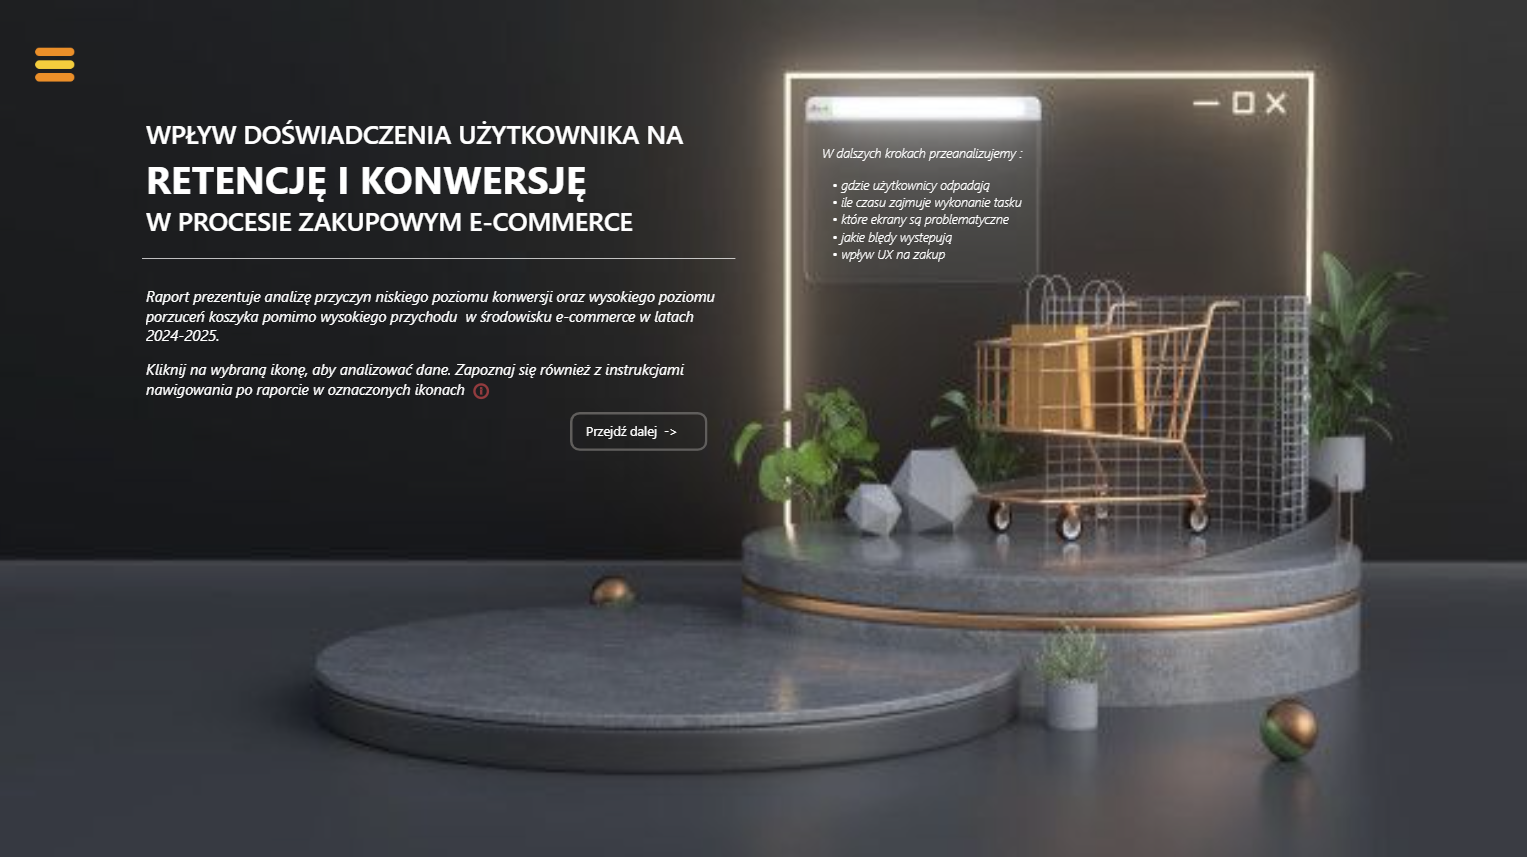

Layout of this report page (visuals, bound fields, positions):
{"tool":"powerbi","page":{"name":"STRONA GŁÓWNA","canvas":[1920,1080],"ordinal":0},"visuals":[{"type":"textbox","box":[1028.1,156.2,287.5,203.1],"z":1000},{"type":"textbox","box":[181.8,352.7,741.8,163.6],"z":3000},{"type":"actionButton","box":[592.1,474,33,27.9],"z":4000},{"type":"textbox","box":[181.6,134.2,742.1,176.3],"z":14000},{"type":"textbox","box":[181.6,318.4,742.1,52.6],"z":15000},{"type":"textbox","box":[733.3,523.1,143.6,35.9],"z":16000},{"type":"actionButton","title":"Przejdź dalej ->","box":[717.9,515.4,171.8,48.7],"z":17000},{"type":"image","box":[35.9,51.3,76.9,56.4],"z":18000}]}

Visuals, with their boxes in screenshot pixels (x1, y1, x2, y2), scaled from the page's 1920x1080 canvas onto the 1527x857 screenshot:
textbox: 818/124/1046/285
textbox: 145/280/735/410
actionButton: 471/376/497/398
textbox: 144/106/735/246
textbox: 144/253/735/294
textbox: 583/415/697/444
"Przejdź dalej ->" actionButton: 571/409/708/448
image: 29/41/90/85
